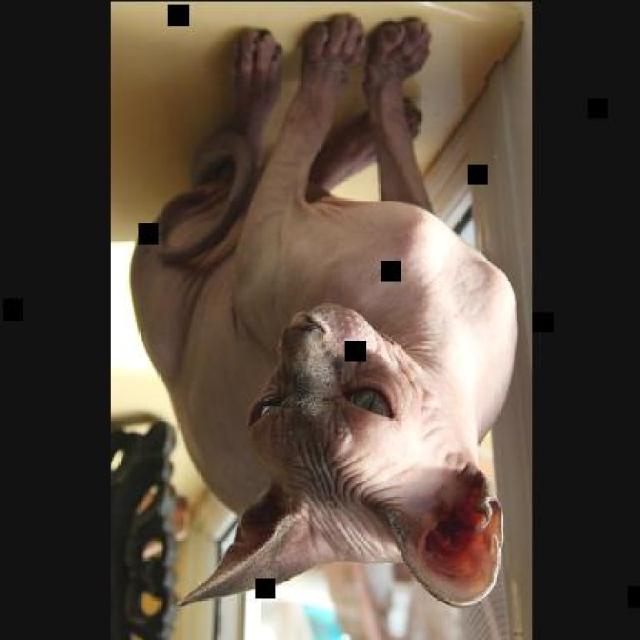unauthorized: (127, 11, 518, 609)
